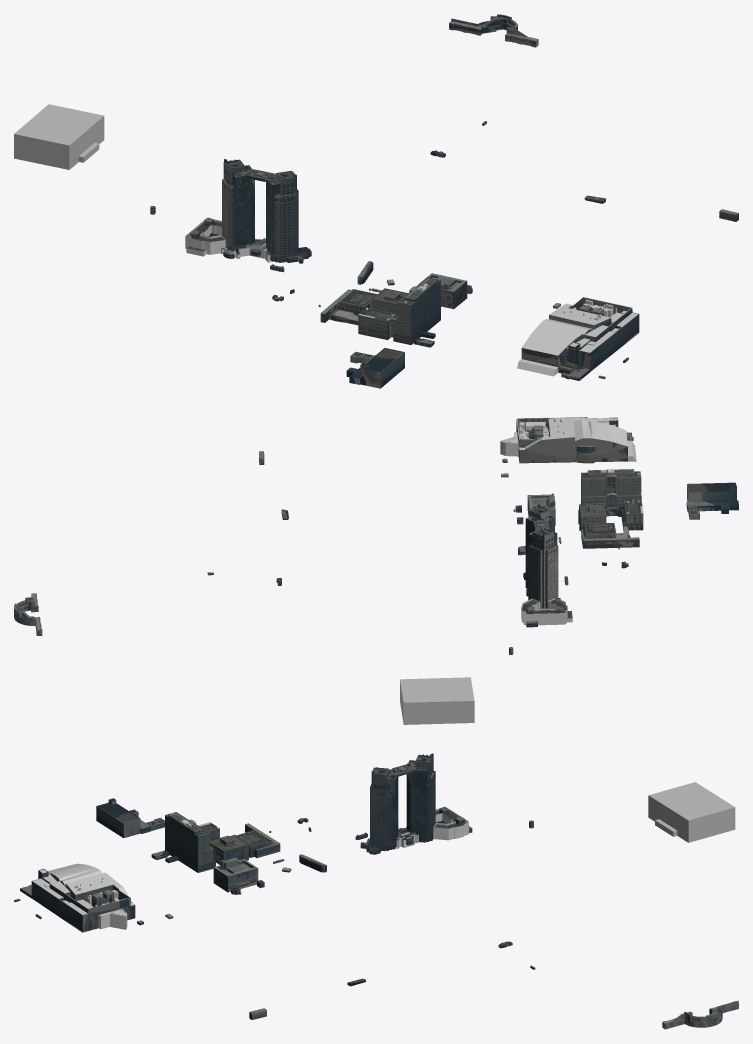
The model's file is 53393652_bldg_6697_op.gltf.
3 renders of one model, top to bottom at view 1: azimuth 30°, elevation 25°; view 2: azimuth 150°, elevation 25°; view 3: azimuth 270°, elevation 25°, orthographic. The views are drawn at different scales.
Parts seen in each view (by area): view 1: bldg_d5b63690-3e9e-46e2-bc19-80665f3a47ce, bldg_416584fd-cd22-4cd4-bfcb-a170889be81e, bldg_d014b4f6-47d7-4dd7-b173-f9af9ed7f064, bldg_de5fab78-ddd8-4fa1-a978-a43411717e99, bldg_a34157f2-b24a-4774-abe7-7471ac5517ae, bldg_68d0f946-eca5-427f-9f1e-7bee7d579d04, bldg_0a1325af-0da7-4c4b-9eb7-7df2f9fb1d76, bldg_ff90e797-6d08-411c-a4a3-018f5a5f107c, bldg_e6c32317-e433-4265-81e0-4f7c0789cce5, bldg_7c297bab-cf78-486c-9555-9c365ae77f15; view 2: bldg_d5b63690-3e9e-46e2-bc19-80665f3a47ce, bldg_416584fd-cd22-4cd4-bfcb-a170889be81e, bldg_d014b4f6-47d7-4dd7-b173-f9af9ed7f064, bldg_de5fab78-ddd8-4fa1-a978-a43411717e99, bldg_68d0f946-eca5-427f-9f1e-7bee7d579d04, bldg_0a1325af-0da7-4c4b-9eb7-7df2f9fb1d76, bldg_a34157f2-b24a-4774-abe7-7471ac5517ae, bldg_ff90e797-6d08-411c-a4a3-018f5a5f107c, bldg_86a5c7f5-6998-4512-923c-4d5a900ccdc5, bldg_863ad918-3370-4ac8-a4b3-11f31ea81951, bldg_e6c32317-e433-4265-81e0-4f7c0789cce5, bldg_485ed188-ffa4-4d88-a62c-76a863e3c16a; view 3: bldg_d5b63690-3e9e-46e2-bc19-80665f3a47ce, bldg_416584fd-cd22-4cd4-bfcb-a170889be81e, bldg_de5fab78-ddd8-4fa1-a978-a43411717e99, bldg_d014b4f6-47d7-4dd7-b173-f9af9ed7f064, bldg_a34157f2-b24a-4774-abe7-7471ac5517ae, bldg_68d0f946-eca5-427f-9f1e-7bee7d579d04, bldg_7c297bab-cf78-486c-9555-9c365ae77f15, bldg_0a1325af-0da7-4c4b-9eb7-7df2f9fb1d76, bldg_ff90e797-6d08-411c-a4a3-018f5a5f107c, bldg_863ad918-3370-4ac8-a4b3-11f31ea81951, bldg_b98e8c86-d2bc-46d3-83c5-e100a89eafff, bldg_e6c32317-e433-4265-81e0-4f7c0789cce5.
Part boxes in pixels (x1=…): bldg_d5b63690-3e9e-46e2-bc19-80665f3a47ce: x1=521, y1=297, x2=639, y2=372; bldg_416584fd-cd22-4cd4-bfcb-a170889be81e: x1=14, y1=104, x2=104, y2=169; bldg_d014b4f6-47d7-4dd7-b173-f9af9ed7f064: x1=358, y1=277, x2=440, y2=344; bldg_de5fab78-ddd8-4fa1-a978-a43411717e99: x1=222, y1=159, x2=278, y2=251; bldg_a34157f2-b24a-4774-abe7-7471ac5517ae: x1=266, y1=170, x2=298, y2=262; bldg_68d0f946-eca5-427f-9f1e-7bee7d579d04: x1=185, y1=217, x2=270, y2=262; bldg_0a1325af-0da7-4c4b-9eb7-7df2f9fb1d76: x1=360, y1=348, x2=404, y2=388; bldg_ff90e797-6d08-411c-a4a3-018f5a5f107c: x1=449, y1=14, x2=538, y2=47; bldg_e6c32317-e433-4265-81e0-4f7c0789cce5: x1=329, y1=289, x2=377, y2=324; bldg_7c297bab-cf78-486c-9555-9c365ae77f15: x1=419, y1=273, x2=467, y2=309; bldg_d5b63690-3e9e-46e2-bc19-80665f3a47ce: x1=516, y1=417, x2=627, y2=463; bldg_416584fd-cd22-4cd4-bfcb-a170889be81e: x1=400, y1=677, x2=474, y2=724; bldg_d014b4f6-47d7-4dd7-b173-f9af9ed7f064: x1=581, y1=468, x2=643, y2=530; bldg_de5fab78-ddd8-4fa1-a978-a43411717e99: x1=528, y1=515, x2=558, y2=608; bldg_68d0f946-eca5-427f-9f1e-7bee7d579d04: x1=521, y1=598, x2=572, y2=625; bldg_0a1325af-0da7-4c4b-9eb7-7df2f9fb1d76: x1=687, y1=482, x2=736, y2=501; bldg_a34157f2-b24a-4774-abe7-7471ac5517ae: x1=525, y1=504, x2=554, y2=588; bldg_ff90e797-6d08-411c-a4a3-018f5a5f107c: x1=14, y1=593, x2=42, y2=635; bldg_86a5c7f5-6998-4512-923c-4d5a900ccdc5: x1=581, y1=529, x2=639, y2=548; bldg_863ad918-3370-4ac8-a4b3-11f31ea81951: x1=578, y1=503, x2=606, y2=531; bldg_e6c32317-e433-4265-81e0-4f7c0789cce5: x1=583, y1=523, x2=630, y2=538; bldg_485ed188-ffa4-4d88-a62c-76a863e3c16a: x1=686, y1=500, x2=738, y2=513; bldg_d5b63690-3e9e-46e2-bc19-80665f3a47ce: x1=31, y1=863, x2=135, y2=932; bldg_416584fd-cd22-4cd4-bfcb-a170889be81e: x1=648, y1=782, x2=735, y2=842; bldg_de5fab78-ddd8-4fa1-a978-a43411717e99: x1=389, y1=753, x2=435, y2=842; bldg_d014b4f6-47d7-4dd7-b173-f9af9ed7f064: x1=165, y1=812, x2=219, y2=872; bldg_a34157f2-b24a-4774-abe7-7471ac5517ae: x1=370, y1=767, x2=398, y2=850; bldg_68d0f946-eca5-427f-9f1e-7bee7d579d04: x1=396, y1=806, x2=468, y2=848; bldg_7c297bab-cf78-486c-9555-9c365ae77f15: x1=213, y1=857, x2=258, y2=892; bldg_0a1325af-0da7-4c4b-9eb7-7df2f9fb1d76: x1=96, y1=798, x2=140, y2=838; bldg_ff90e797-6d08-411c-a4a3-018f5a5f107c: x1=662, y1=1000, x2=738, y2=1029; bldg_863ad918-3370-4ac8-a4b3-11f31ea81951: x1=209, y1=834, x2=248, y2=865; bldg_b98e8c86-d2bc-46d3-83c5-e100a89eafff: x1=98, y1=909, x2=127, y2=929; bldg_e6c32317-e433-4265-81e0-4f7c0789cce5: x1=236, y1=830, x2=275, y2=857.
Bounding box in the file's own units: 668 × 114 × 904.
